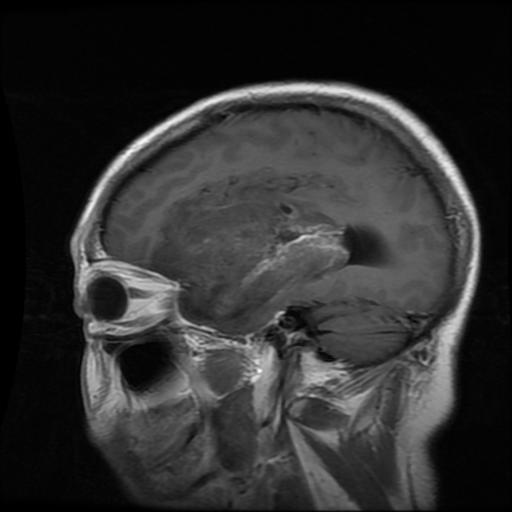Gliomia_tumour: (153, 168, 348, 328)
